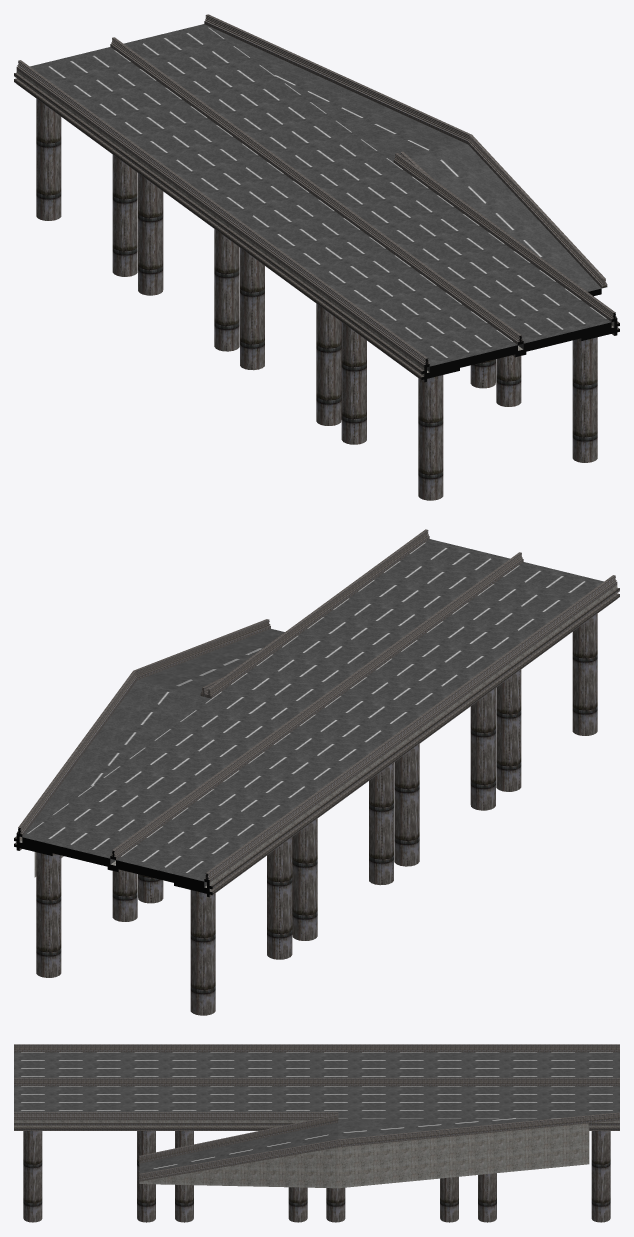
Rendered from HighwayJunct1_high.fbx.
The picture shows the model from 3 angles, top to bottom: view 1: azimuth 30°, elevation 25°; view 2: azimuth 150°, elevation 25°; view 3: azimuth 270°, elevation 25°; orthographic projection. The views are drawn at different scales.
Parts seen in each view (by area): view 1: materialE150, materialD150, materialA150, materialC150, materialB150; view 2: materialE150, materialD150, materialA150, materialC150, materialB150; view 3: materialE150, materialD150, materialB150, materialA150.
Boxes of the visible parts, x1=… form: materialE150: x1=30, y1=24, x2=611, y2=371; materialD150: x1=14, y1=14, x2=619, y2=500; materialA150: x1=205, y1=24, x2=601, y2=291; materialC150: x1=421, y1=288, x2=619, y2=382; materialB150: x1=16, y1=70, x2=614, y2=376; materialE150: x1=22, y1=539, x2=603, y2=886; materialD150: x1=14, y1=529, x2=619, y2=1015; materialA150: x1=22, y1=629, x2=284, y2=836; materialC150: x1=14, y1=827, x2=212, y2=897; materialB150: x1=19, y1=585, x2=617, y2=891; materialE150: x1=14, y1=1052, x2=619, y2=1118; materialD150: x1=14, y1=1044, x2=619, y2=1222; materialB150: x1=14, y1=1120, x2=619, y2=1188; materialA150: x1=139, y1=1118, x2=556, y2=1173.
Size of the model in its own units: 78.4 by 41.6 by 205.
